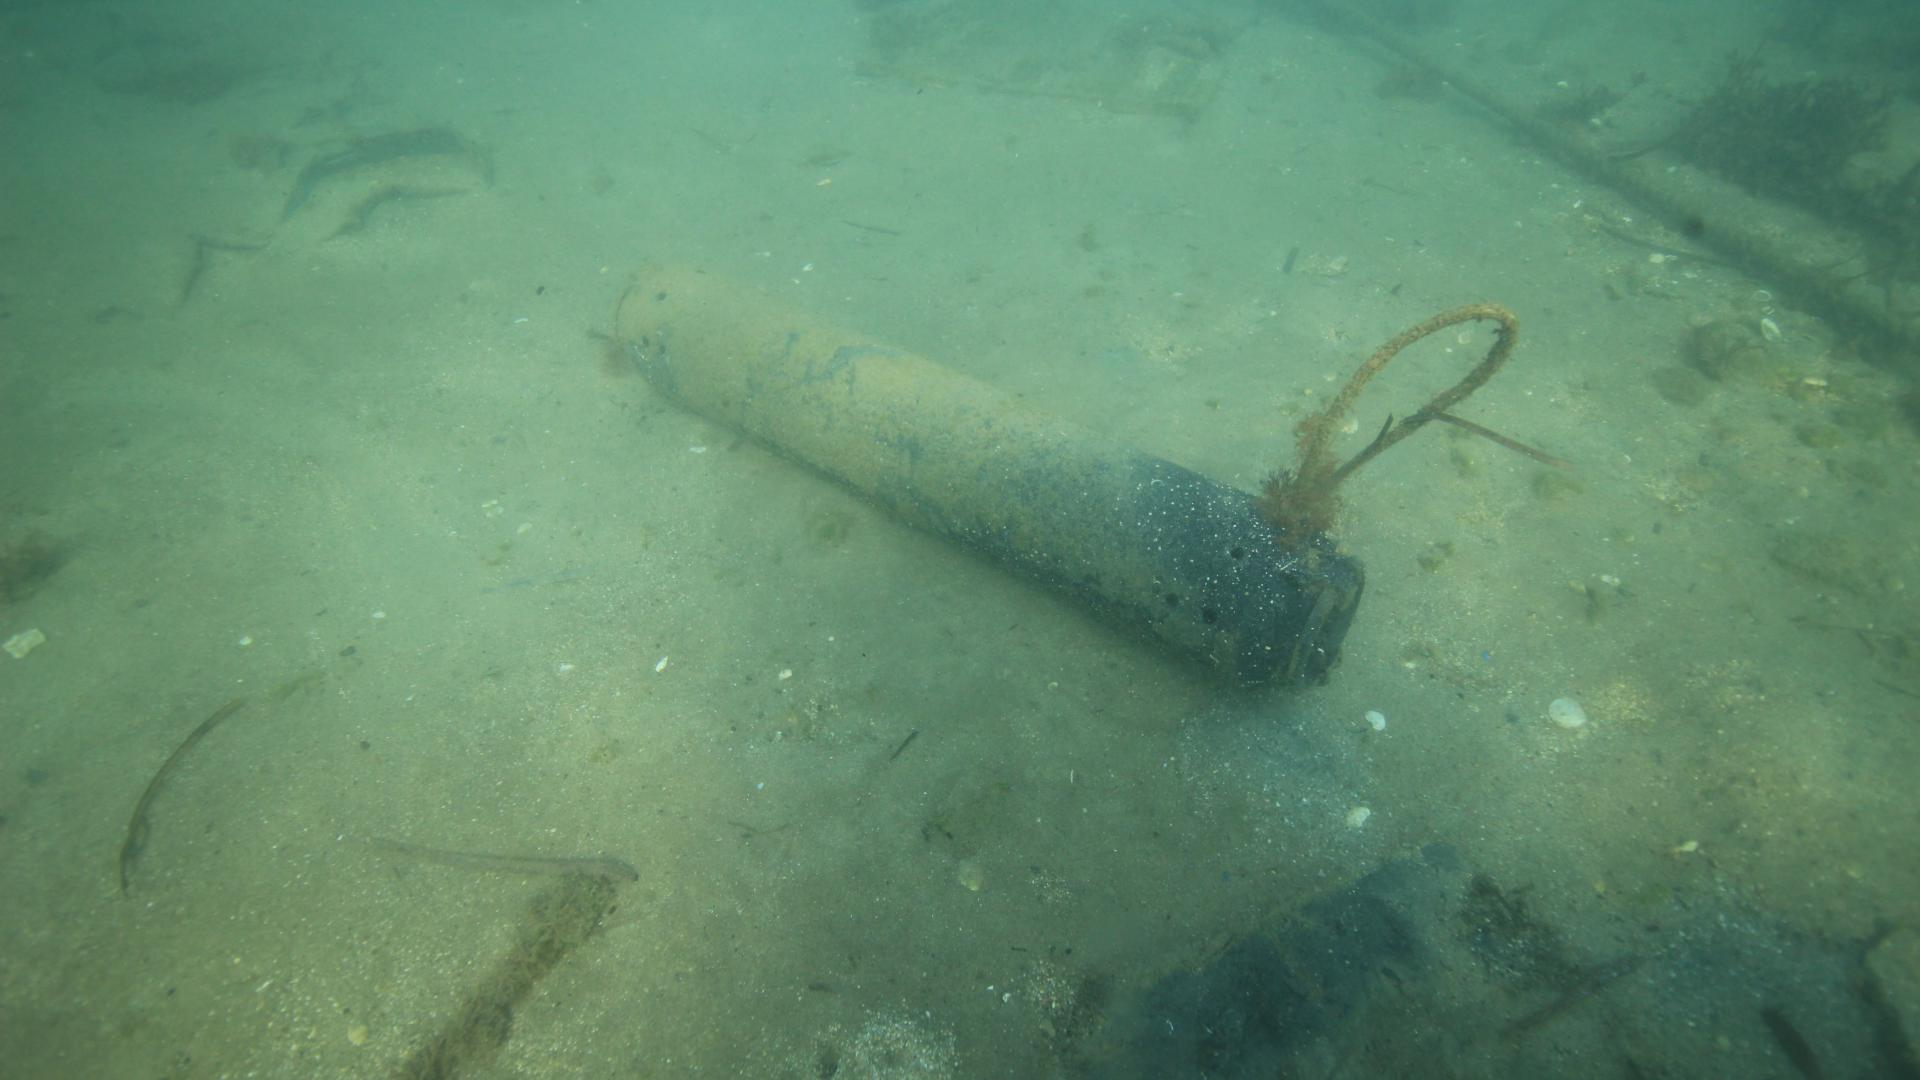eel fish trap: (611, 257, 1369, 698)
rope: (1295, 302, 1524, 502)
